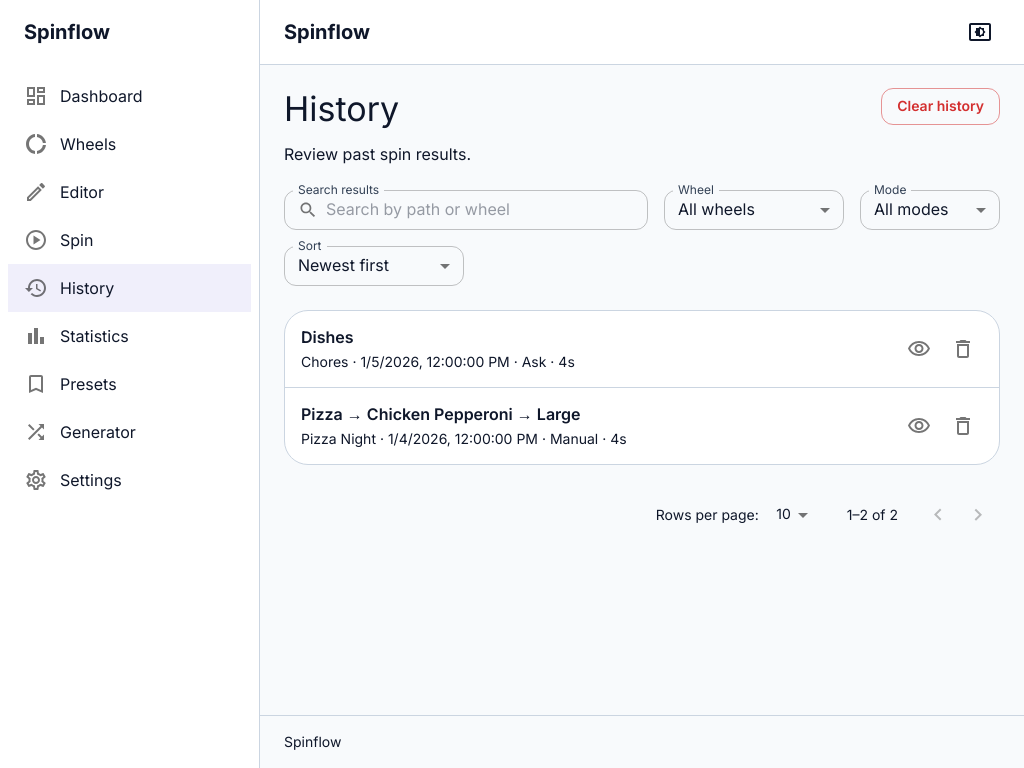
HistoryScreen › filters by wheel and mode
This screenshot has width=1024, height=768.
Click the dropdown labelled "wheel" at (716, 209), box [678,199,755,219]
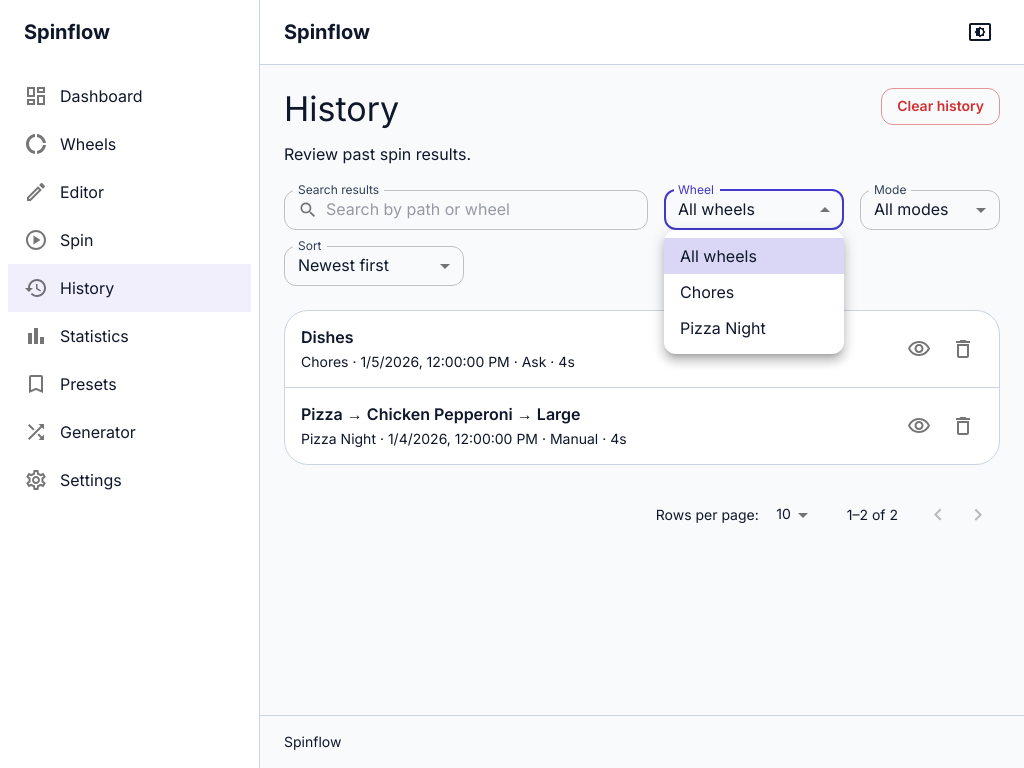
Click the option "Chores" at (707, 292), box [680,282,734,302]
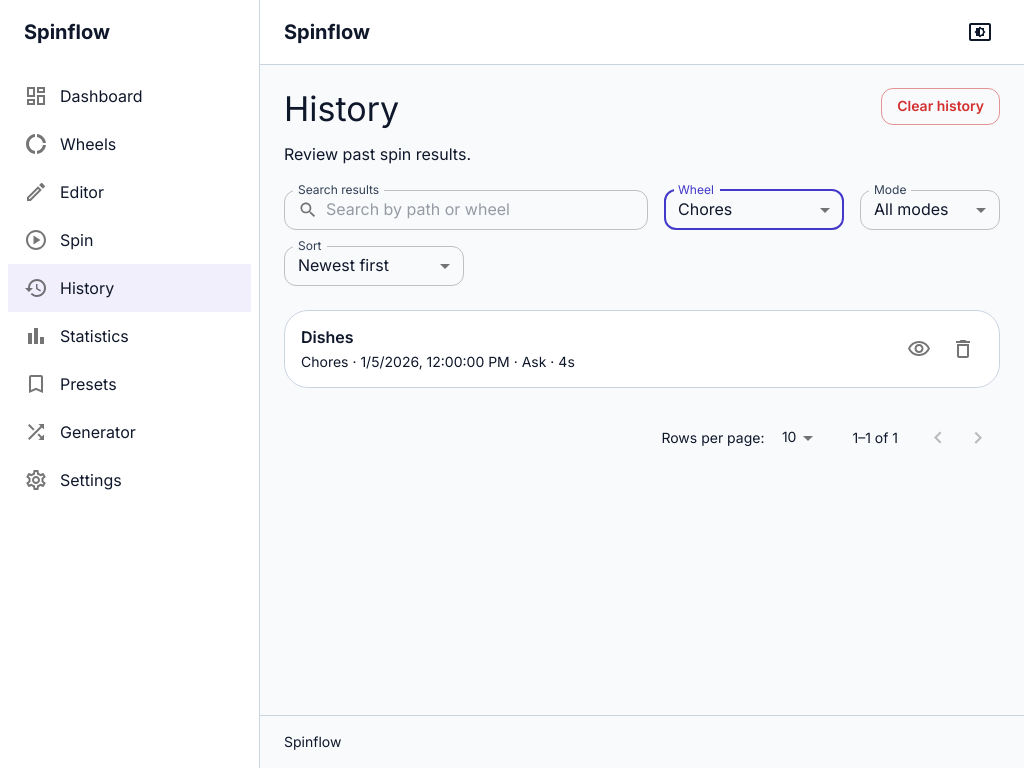
Expected: the text "Dishes" is shown, [301,327,354,347]
Expected: the button "Pizza → Chicken Pepperoni → Large" is gone
Click the dropdown named "Wheel" at (705, 209), box [678,199,732,219]
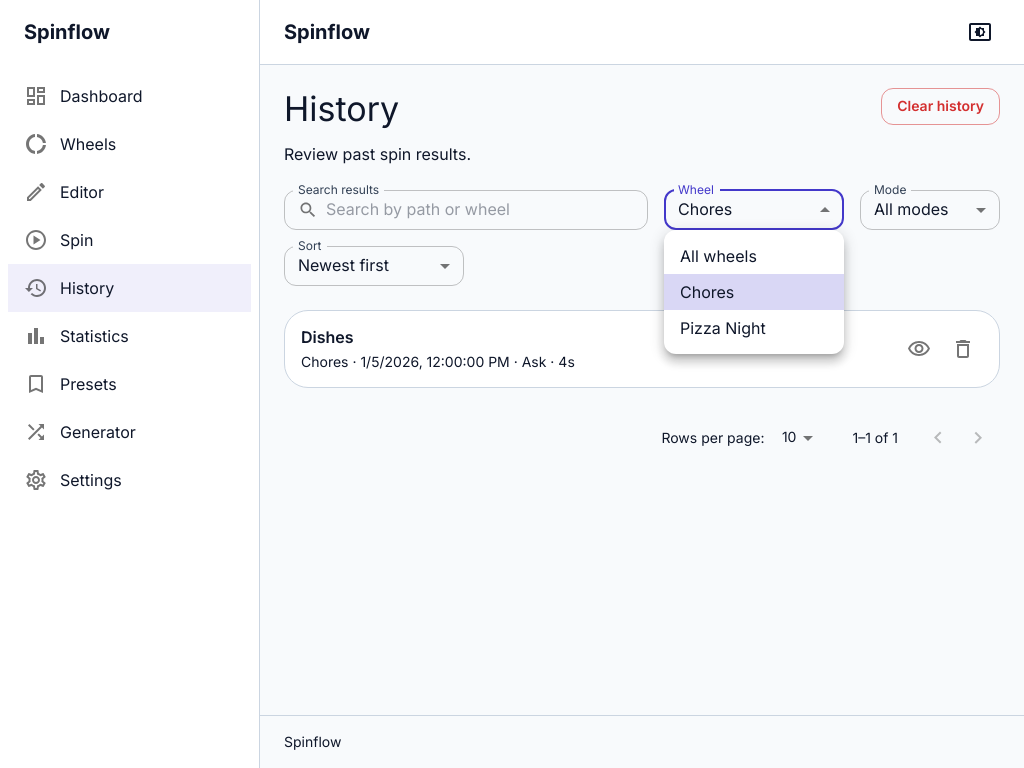
Click the option "All wheels" at (718, 256), box [680,246,757,266]
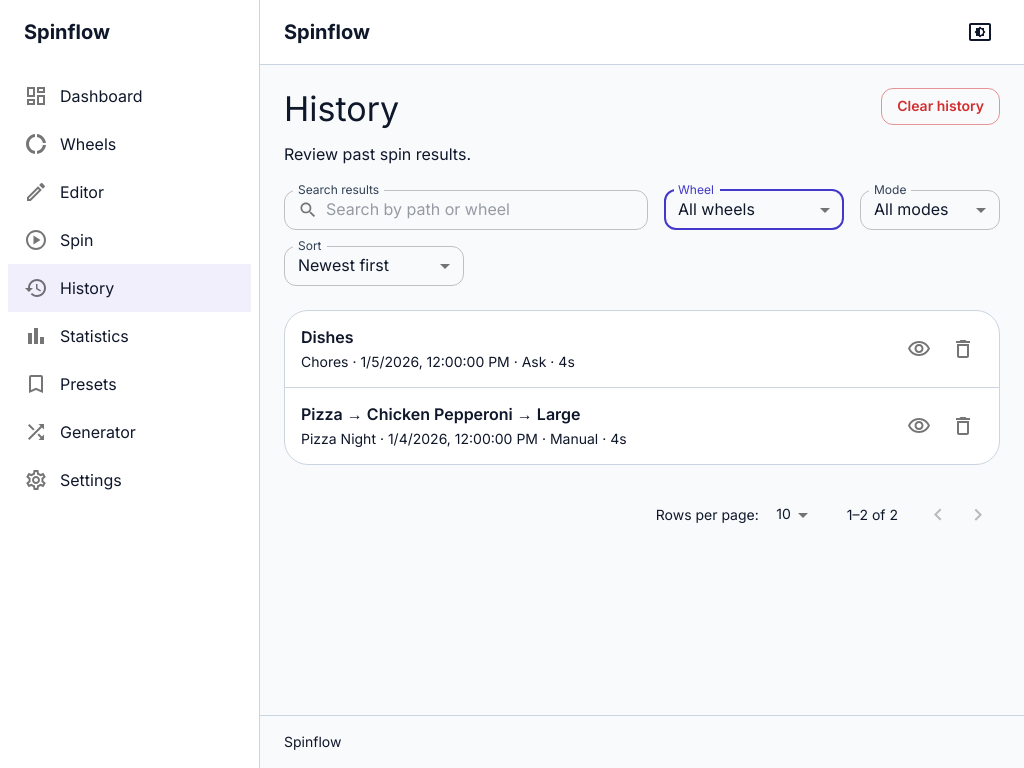
Click the dropdown labelled "mode" at (911, 209), box [874,199,948,219]
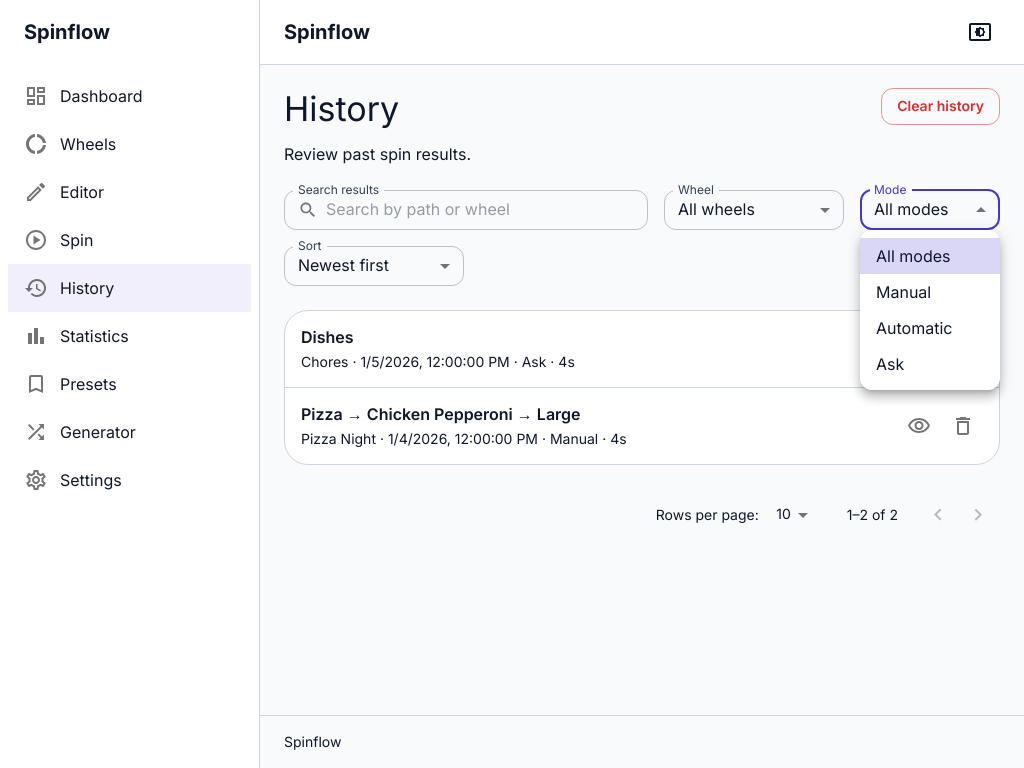
Click the option "Ask" at (890, 364), box [876,354,904,374]
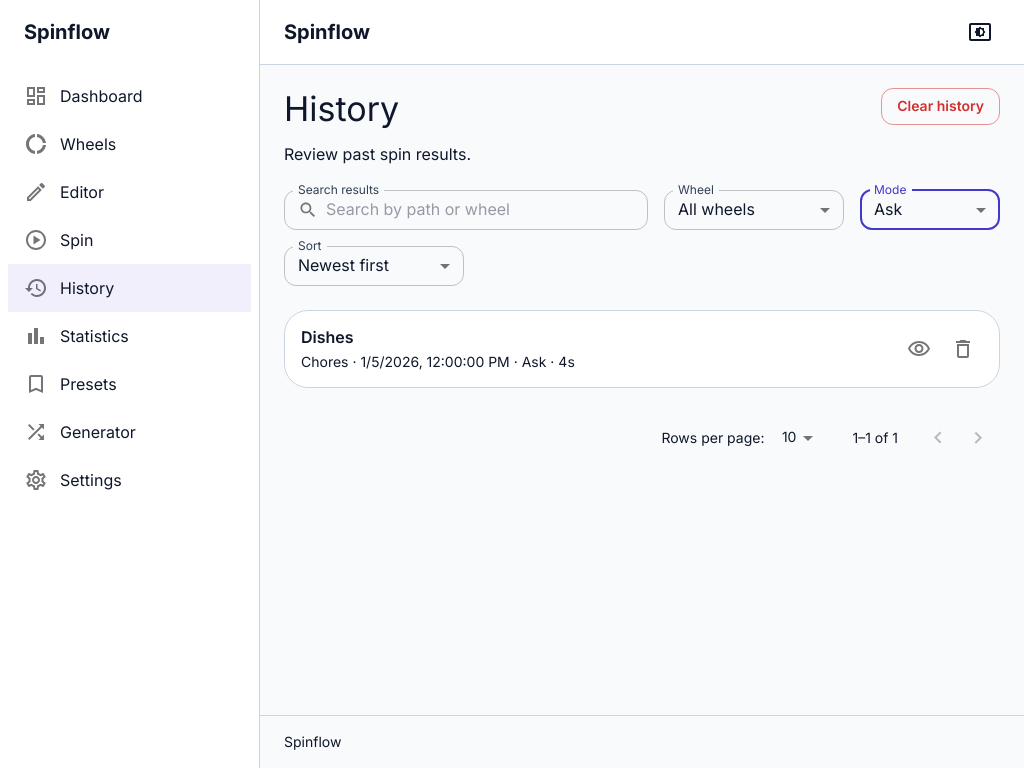
Expected: the text "Dishes" is shown, [301,327,354,347]
Expected: the button "Pizza → Chicken Pepperoni → Large" is gone
